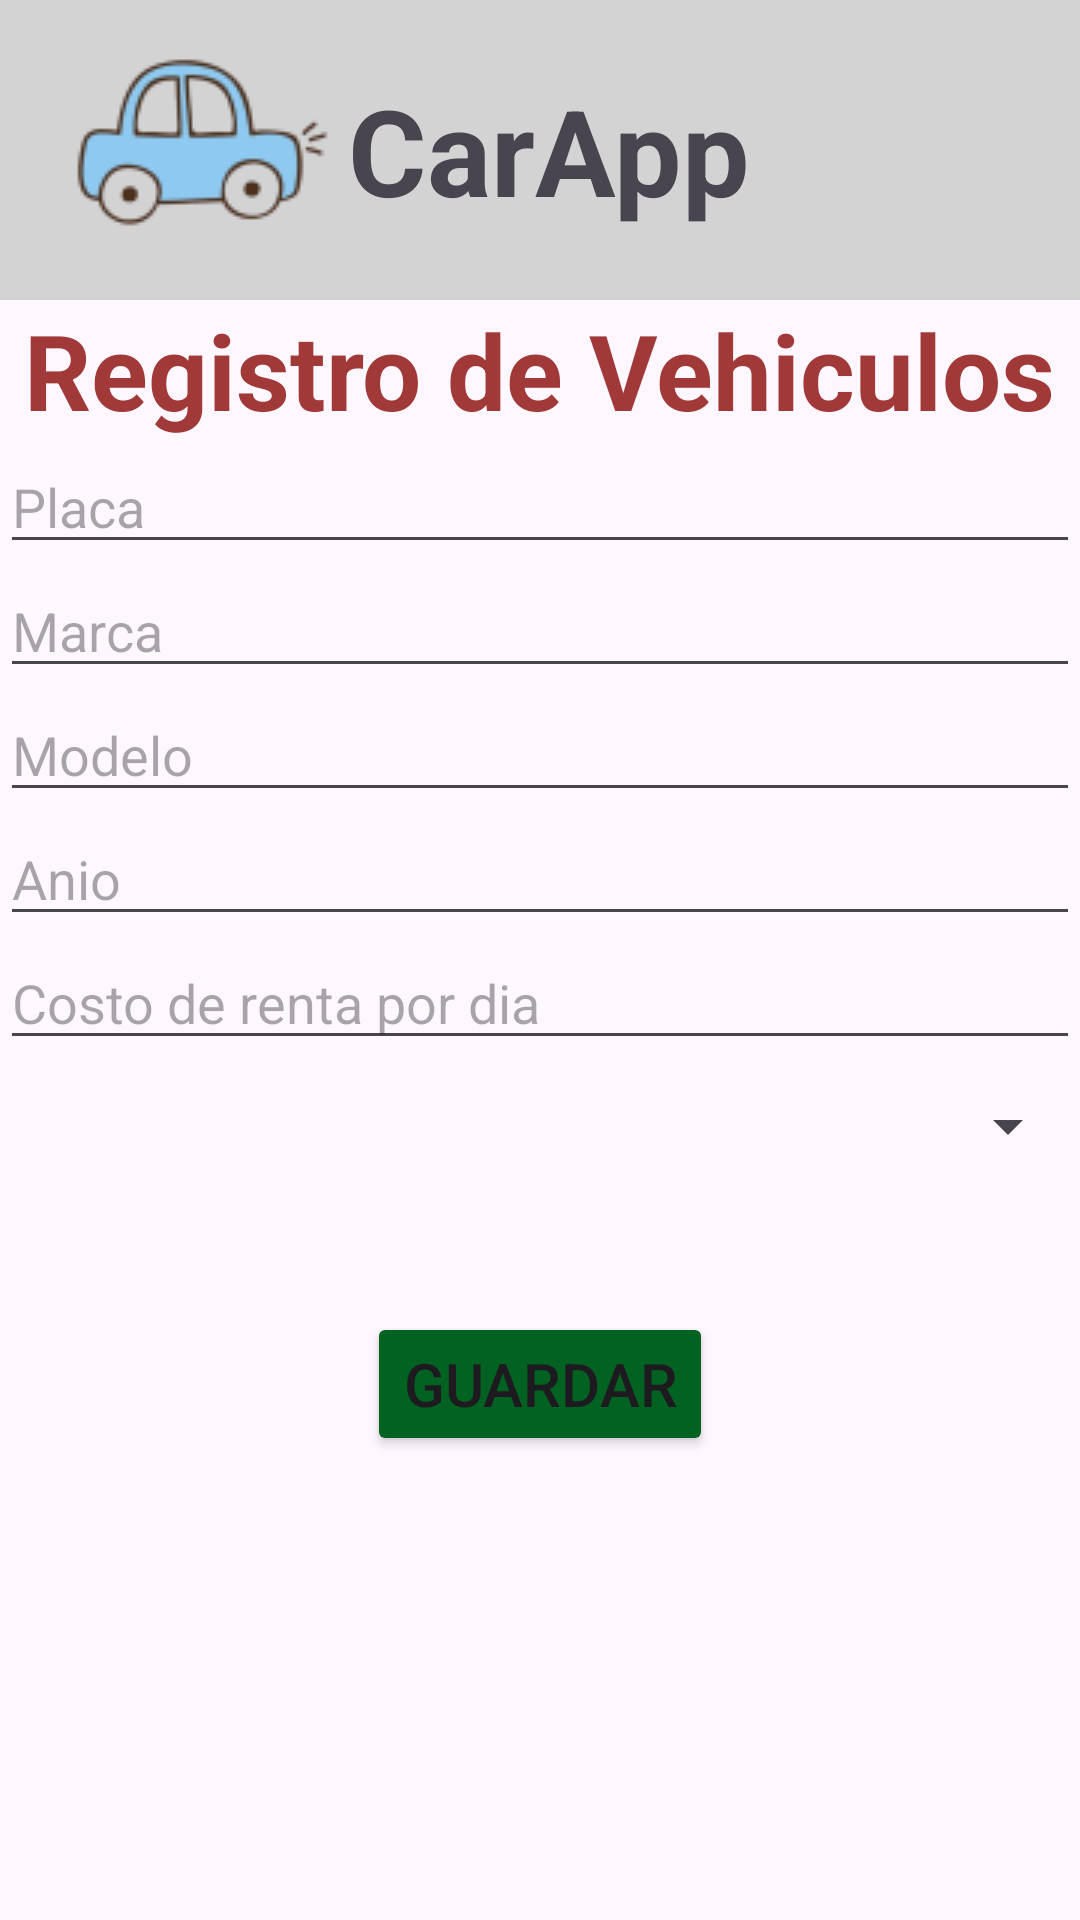

Icons on this 1080px×1920px Android screen, each with the point to tap as (x=x, y=y):
carrito: (x=202, y=142)
